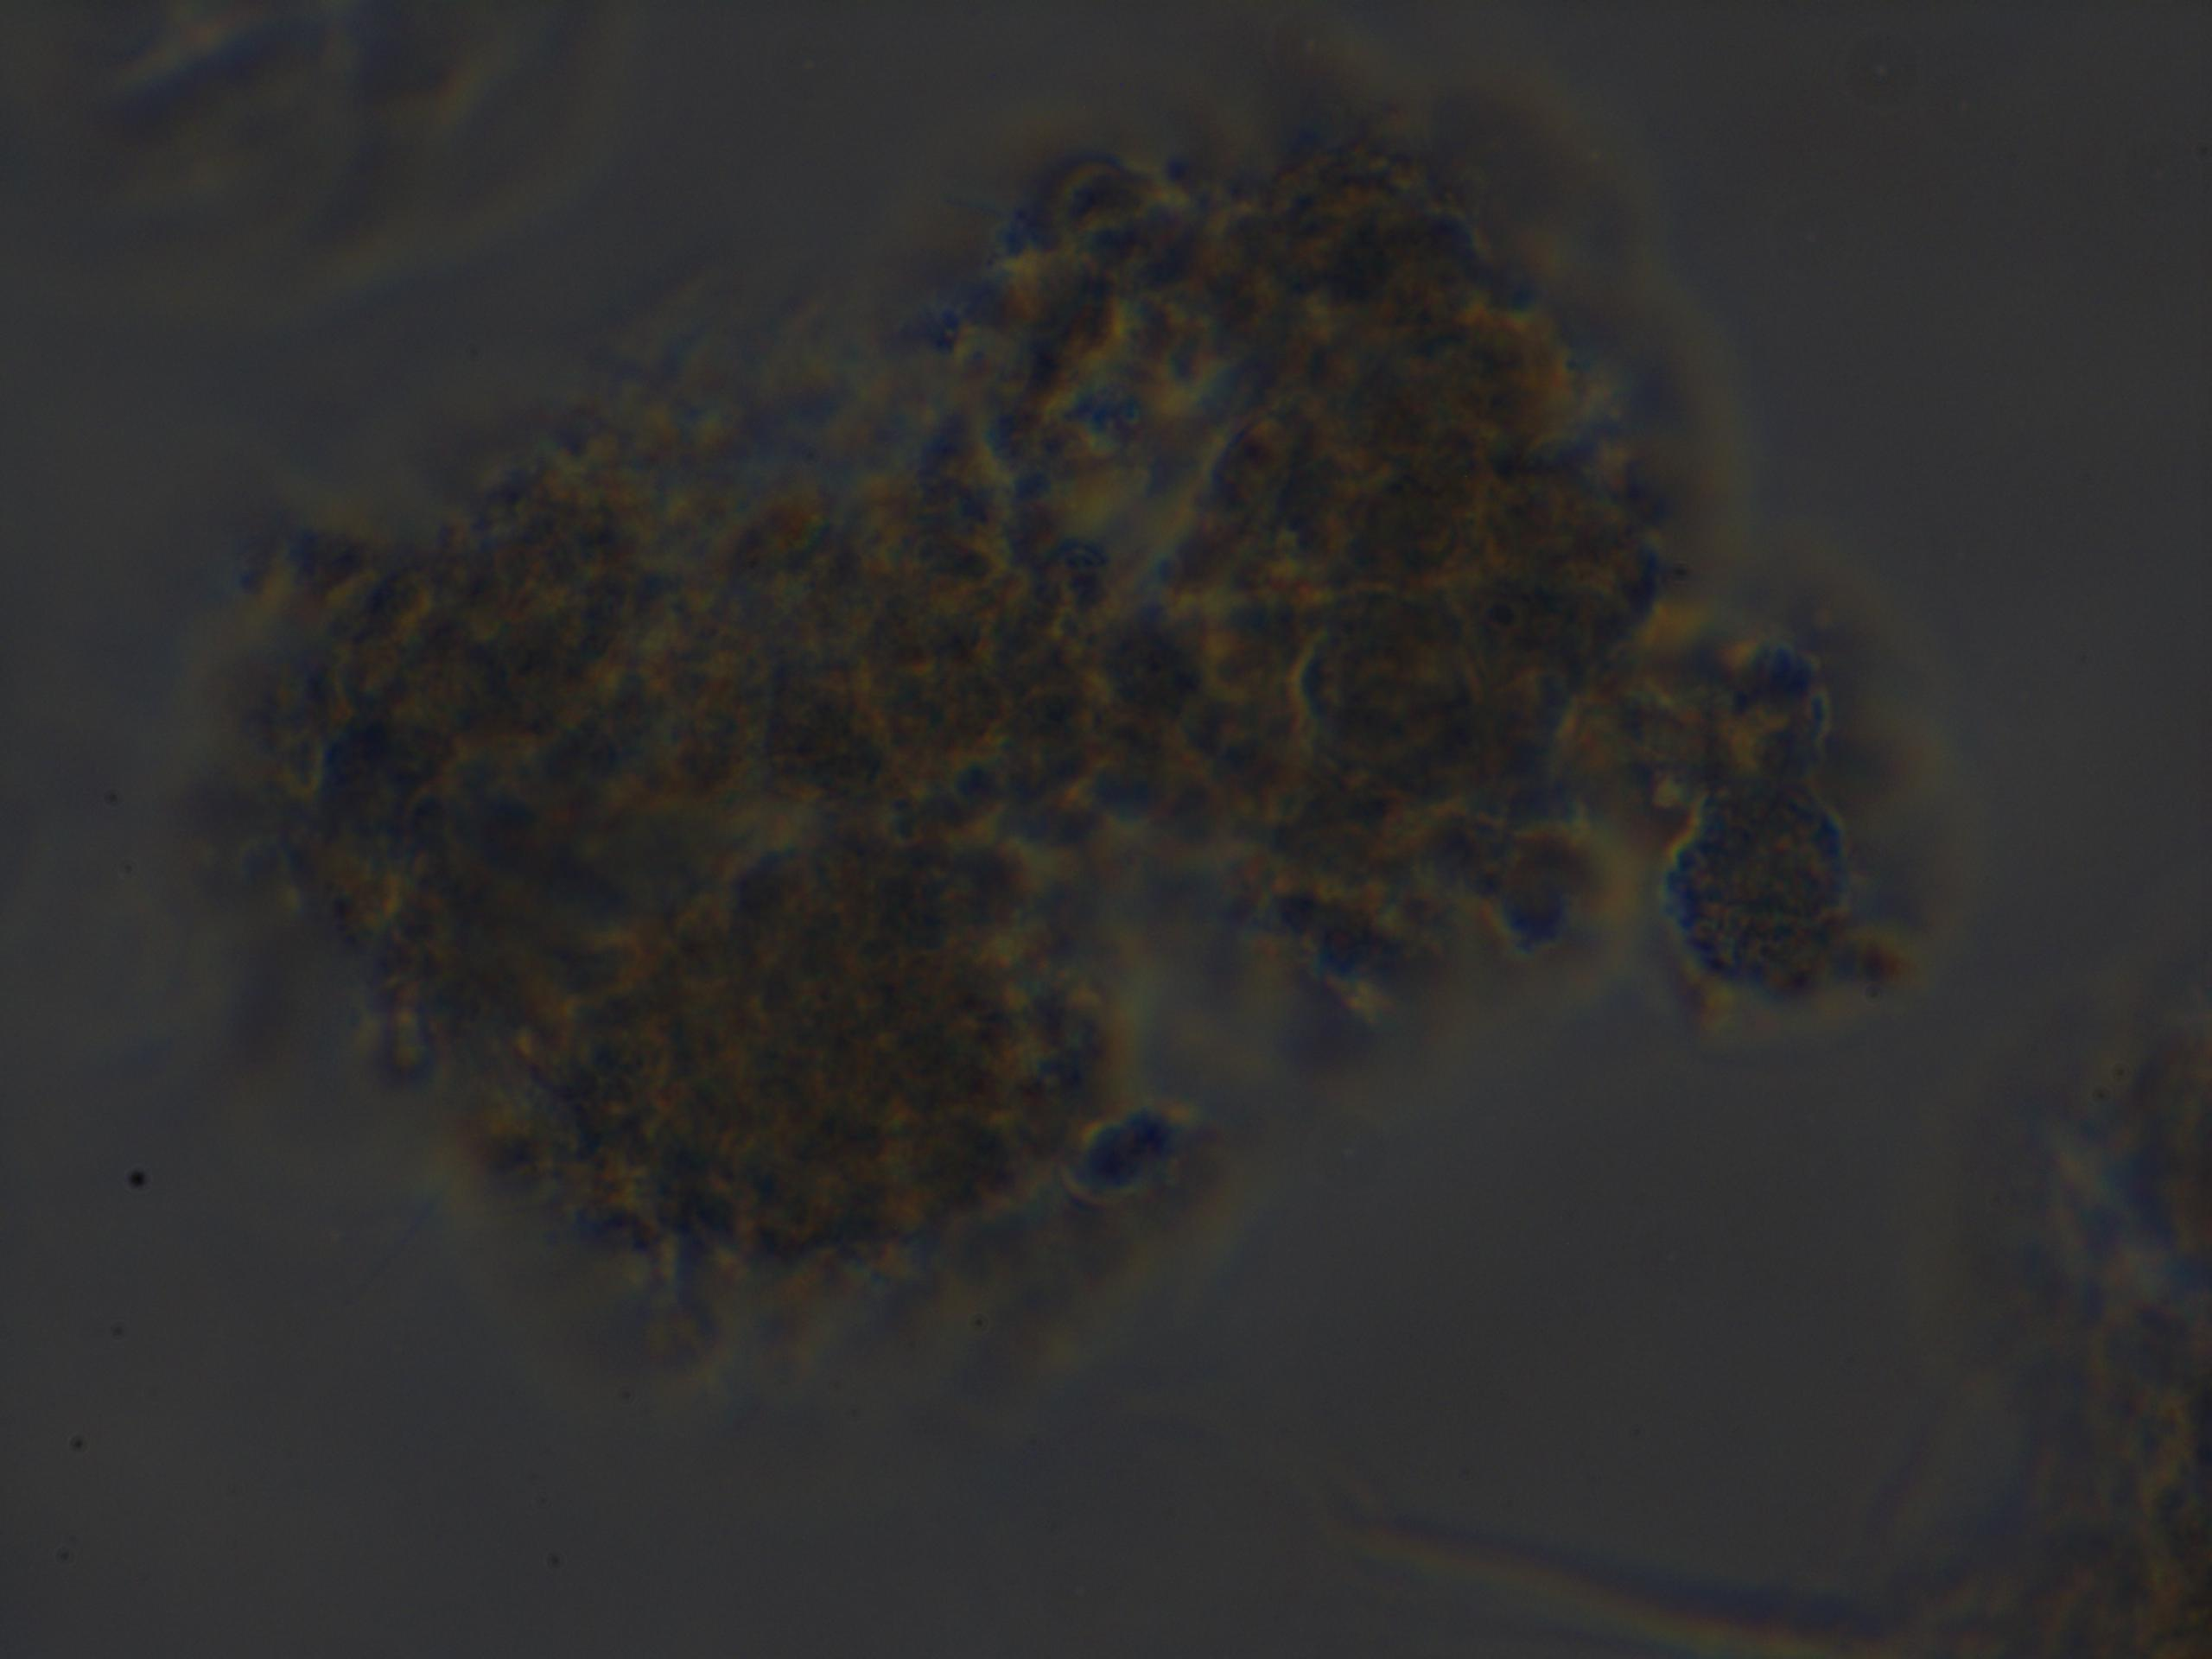open_floc: (230, 105, 1942, 1345)
